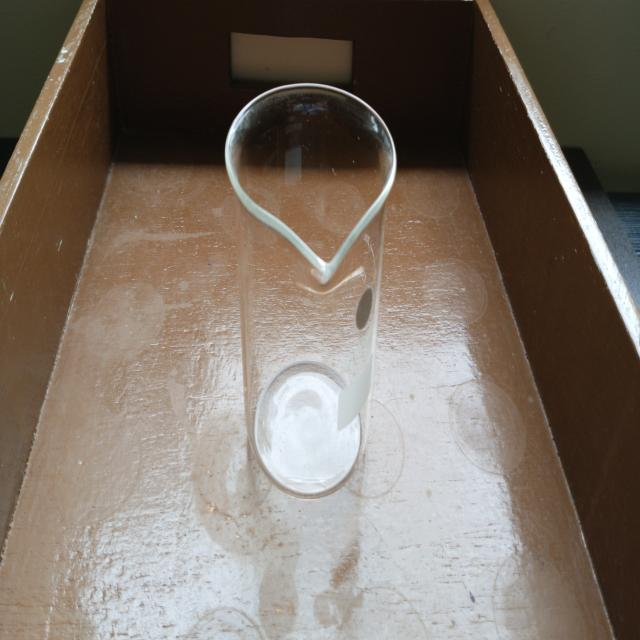beaker: (220, 72, 401, 502)
